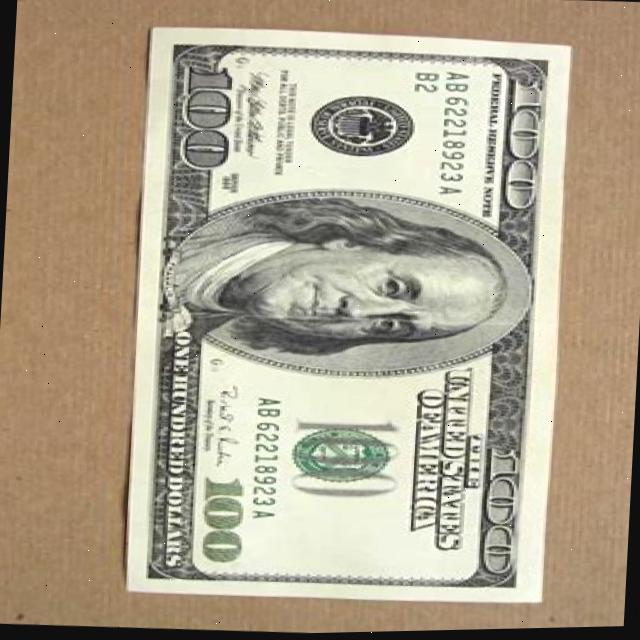banknote: (116, 16, 575, 620), (471, 447, 532, 583), (496, 80, 552, 213), (176, 64, 237, 174), (158, 325, 200, 477), (190, 470, 252, 571)
